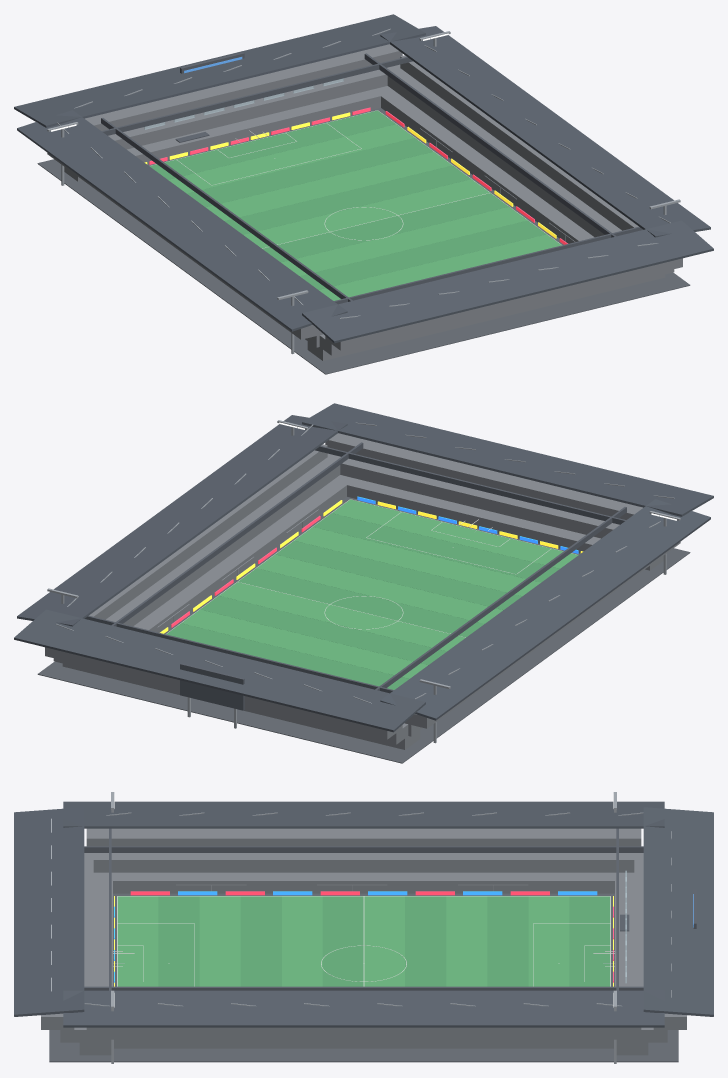
Rendered from stadium.glb.
3 renders of one model, top to bottom at view 1: azimuth 30°, elevation 25°; view 2: azimuth 150°, elevation 25°; view 3: azimuth 270°, elevation 25°, orthographic. The views are drawn at different scales.
Visible parts, largest first — view 1: Roof, Concrete, PitchGrass, PitchStripe, ConcreteDark, SeatDark, Steel, PitchLines, LEDRed, LEDYellow; view 2: Roof, Concrete, PitchStripe, PitchGrass, ConcreteDark, SeatDark, Steel, PitchLines, LEDYellow; view 3: Roof, Concrete, PitchGrass, PitchStripe, ConcreteDark, SeatDark, Steel, PitchLines, LEDBlue, LEDRed.
Boxes of the visible parts, <box> form: Roof: <box>14,14,713,343</box>; Concrete: <box>47,44,682,360</box>; PitchGrass: <box>149,110,546,289</box>; PitchStripe: <box>168,124,561,300</box>; ConcreteDark: <box>37,108,690,374</box>; SeatDark: <box>101,52,643,304</box>; Steel: <box>47,28,680,354</box>; PitchLines: <box>150,110,561,248</box>; LEDRed: <box>149,107,567,244</box>; LEDYellow: <box>144,112,556,238</box>; Roof: <box>14,403,713,732</box>; Concrete: <box>45,433,680,749</box>; PitchStripe: <box>181,499,578,678</box>; PitchGrass: <box>166,513,559,689</box>; ConcreteDark: <box>37,497,690,763</box>; SeatDark: <box>84,442,626,710</box>; Steel: <box>47,420,680,743</box>; PitchLines: <box>166,499,577,637</box>; LEDYellow: <box>160,500,583,633</box>; Roof: <box>14,801,713,1027</box>; Concrete: <box>41,828,686,1055</box>; PitchGrass: <box>158,896,610,986</box>; PitchStripe: <box>117,896,569,986</box>; ConcreteDark: <box>49,893,678,1062</box>; SeatDark: <box>84,828,696,990</box>; Steel: <box>51,792,671,1063</box>; PitchLines: <box>117,896,610,986</box>; LEDBlue: <box>114,891,597,982</box>; LEDRed: <box>130,891,613,982</box>.
Bounding box in the file's own units: 113 × 16.19 × 149.
